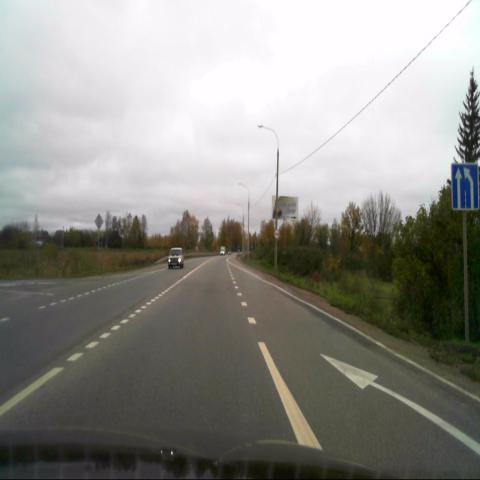5_15_5: (451, 163, 480, 209)
